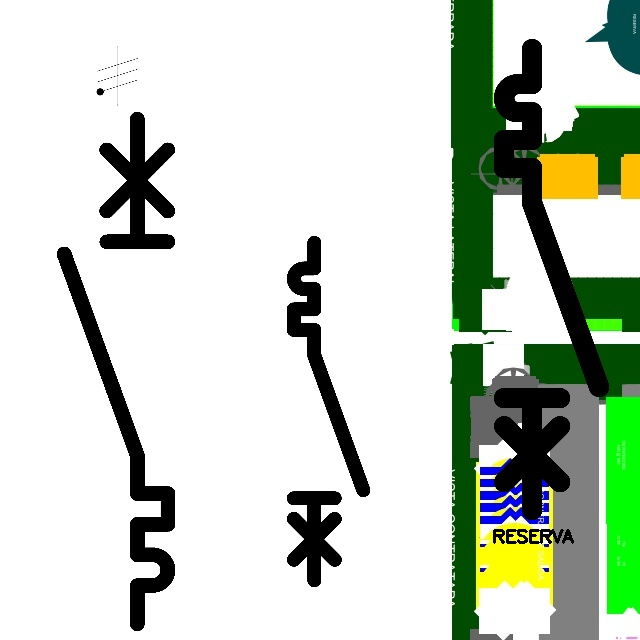interruptor_termomagnetico: (51, 106, 181, 637), (492, 37, 610, 522), (285, 234, 372, 589)
